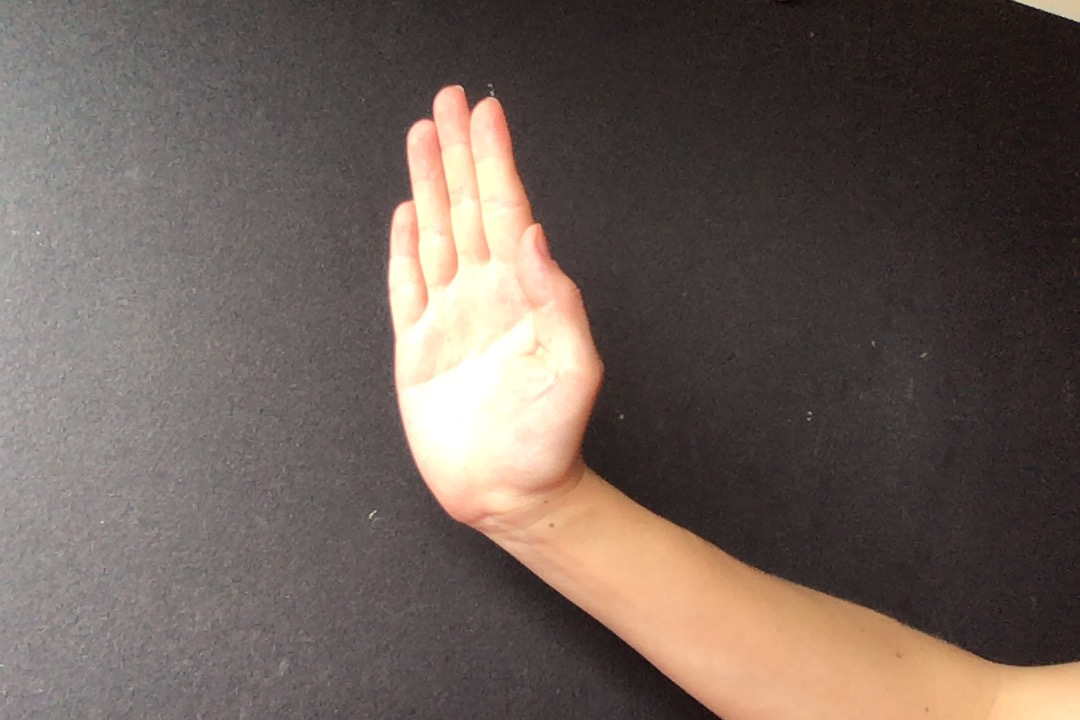palmhand: (373, 85, 611, 541)
